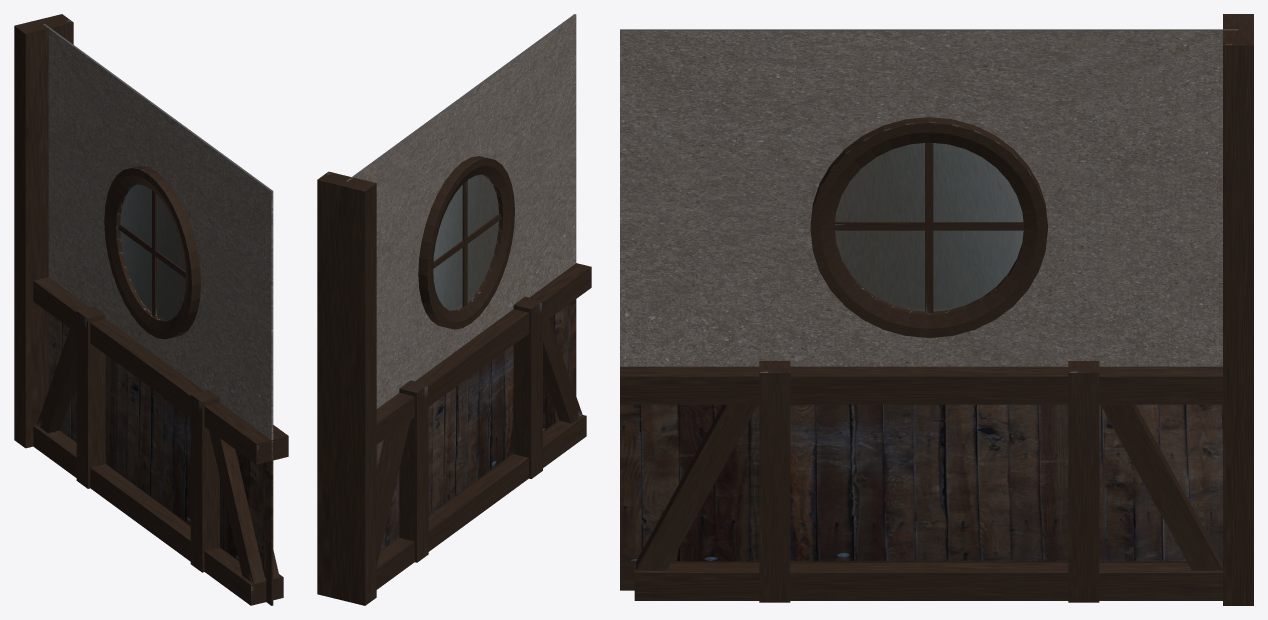
Rendered from OutdoorArchitecture_BasicWall04_Window02_RightEdge_BShortt.fbx.
The picture shows the model from 3 angles, left to right: view 1: azimuth 30°, elevation 25°; view 2: azimuth 150°, elevation 25°; view 3: azimuth 270°, elevation 25°; orthographic projection. The views are drawn at different scales.
Parts seen in each view (by area): view 1: OutdoorArchitecture_BasicWall04_Window02_RightEdge_BShortt; view 2: OutdoorArchitecture_BasicWall04_Window02_RightEdge_BShortt; view 3: OutdoorArchitecture_BasicWall04_Window02_RightEdge_BShortt.
Boxes of the visible parts, x1,y1,x2,y2 form: OutdoorArchitecture_BasicWall04_Window02_RightEdge_BShortt: (14,14,288,605); OutdoorArchitecture_BasicWall04_Window02_RightEdge_BShortt: (317,14,591,605); OutdoorArchitecture_BasicWall04_Window02_RightEdge_BShortt: (620,14,1253,605).
Bounding box in the file's own units: 36.37 × 300 × 308.
